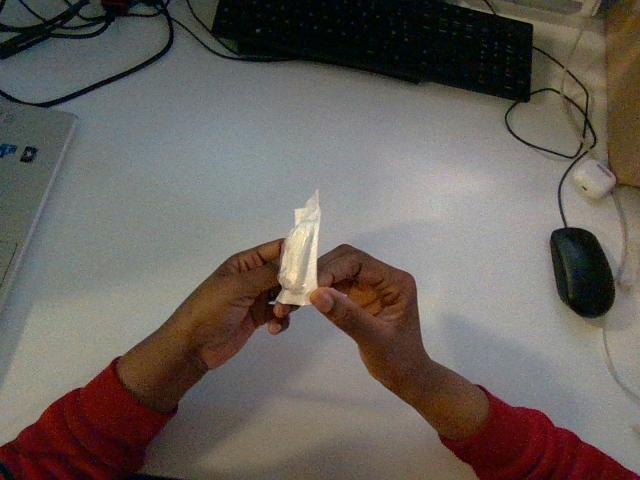gauze: (276, 190, 320, 305)
